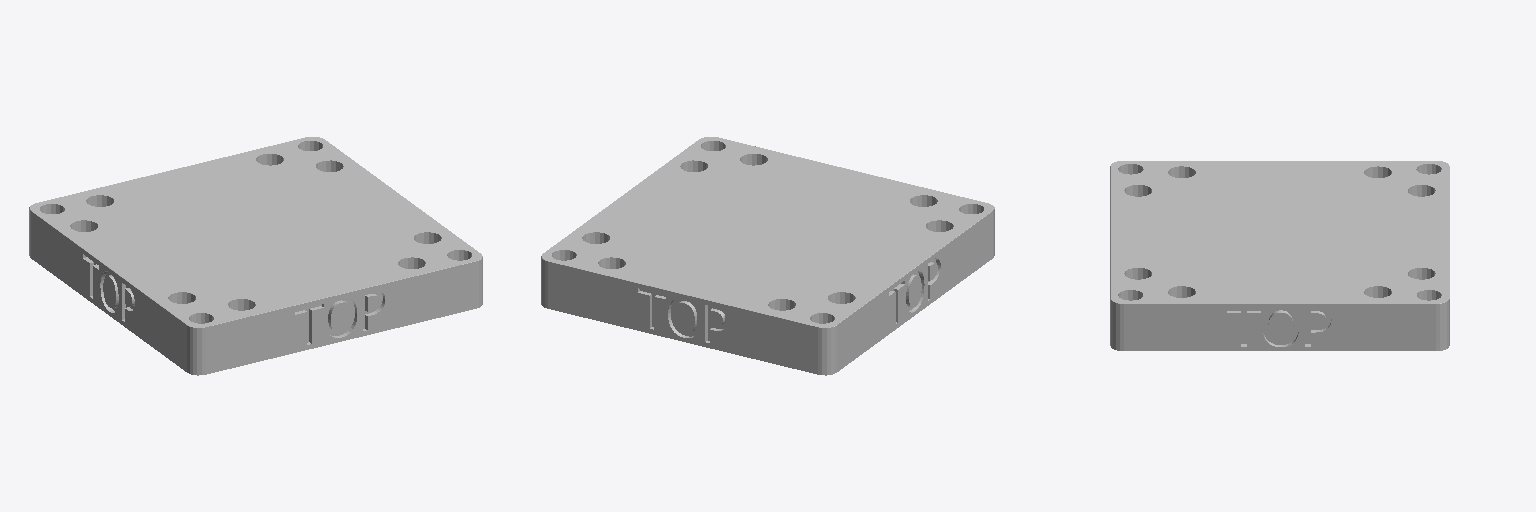
File: Cube 1x1 V5_Cube 1x1 Top V5 Closed.obj
The picture shows the model from 3 angles: view 1: azimuth 30°, elevation 25°; view 2: azimuth 150°, elevation 25°; view 3: azimuth 270°, elevation 25°; orthographic projection.
Visible parts, largest first — view 1: Solid1:2; view 2: Solid1:2; view 3: Solid1:2.
Boxes of the visible parts, x1=… form: Solid1:2: x1=29, y1=137, x2=482, y2=375; Solid1:2: x1=541, y1=137, x2=994, y2=375; Solid1:2: x1=1110, y1=161, x2=1449, y2=350.
Bounding box in the file's own units: 49.8 × 7.7 × 49.8.